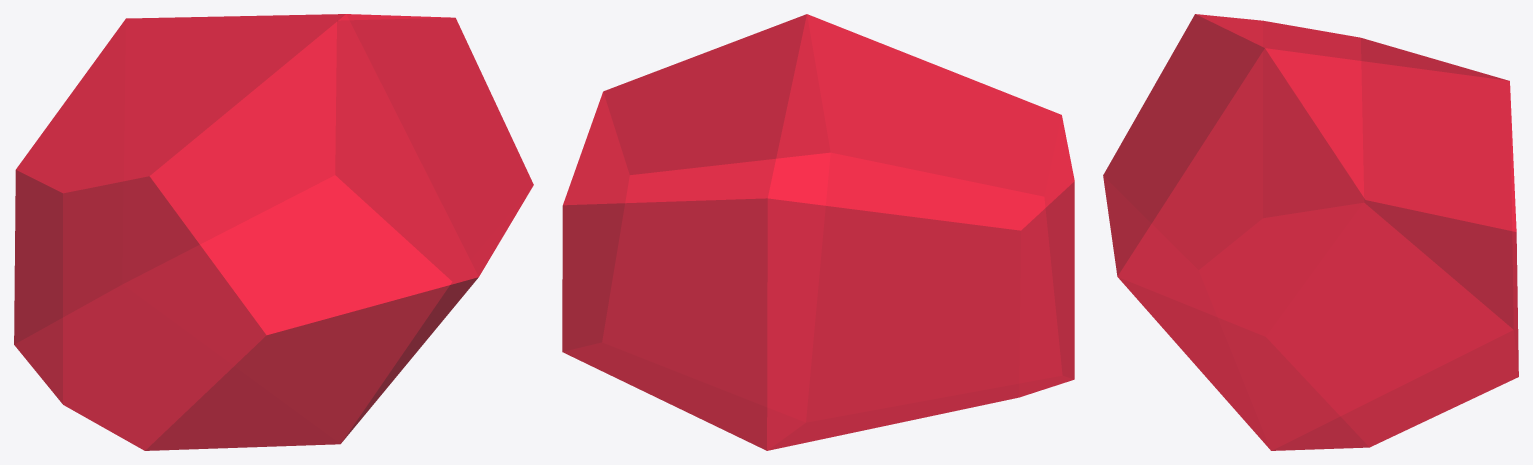
The model's file is mineral.fbx.
The picture shows the model from 3 angles, left to right: view 1: azimuth 30°, elevation 25°; view 2: azimuth 150°, elevation 25°; view 3: azimuth 270°, elevation 25°; orthographic projection. The views are drawn at different scales.
Visible parts, largest first — view 1: Layer 01; view 2: Layer 01; view 3: Layer 01.
Part boxes in pixels (<box>): Layer 01: <box>14,14,533,450</box>; Layer 01: <box>562,14,1074,450</box>; Layer 01: <box>1103,14,1518,450</box>.
Bounding box in the file's own units: 23.04 × 20.15 × 18.8.
